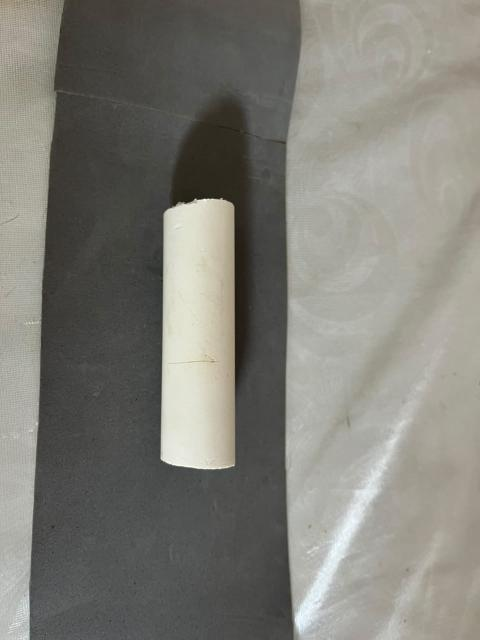PVC: (107, 163, 293, 531)
